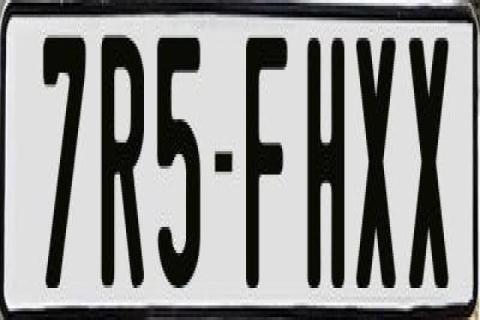0: (44, 38, 92, 306), (154, 29, 200, 297)
F: (246, 29, 289, 285)
H: (306, 38, 346, 288)
R: (98, 32, 140, 285)
X: (408, 29, 452, 297), (356, 32, 396, 285)
